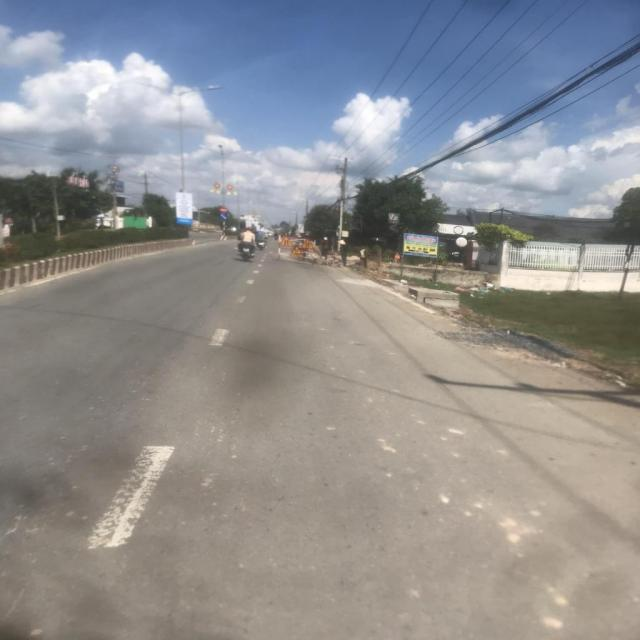cam_xe_di_nguoc_chieu: (218, 207, 228, 213)
di_cham: (289, 245, 305, 258)
huong_phai_di_vuot_chuong_ngai_vat_phai: (220, 214, 228, 220)
khac: (279, 235, 294, 247), (300, 238, 315, 250)
